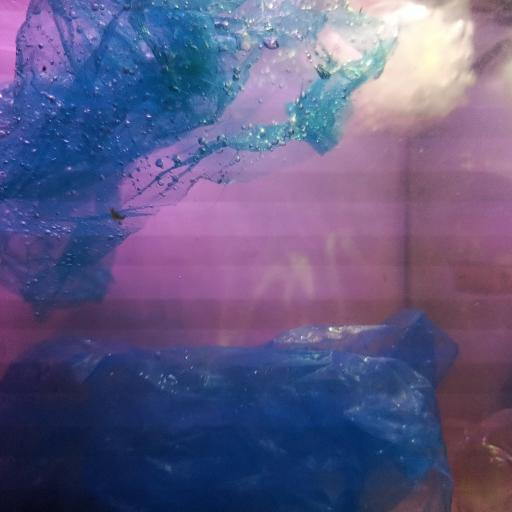plastic_bag: (0, 1, 406, 314), (0, 313, 459, 512), (322, 1, 483, 140)
